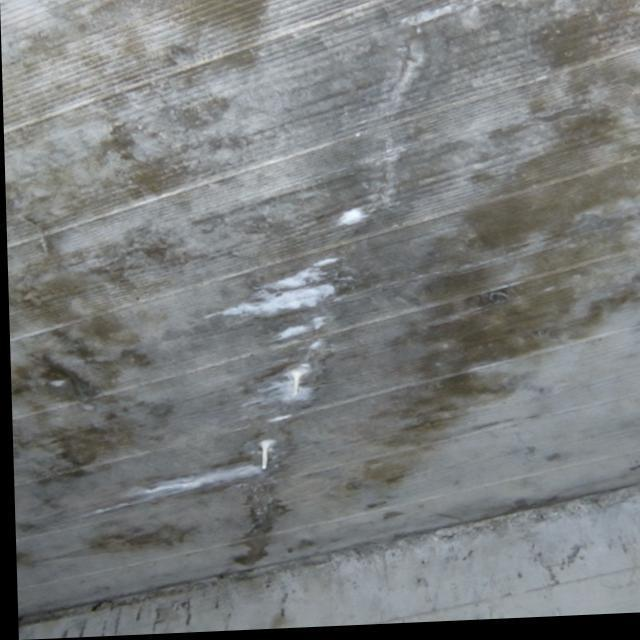D01: (138, 438, 275, 499), (218, 258, 337, 316), (270, 362, 311, 401), (338, 210, 369, 229)
